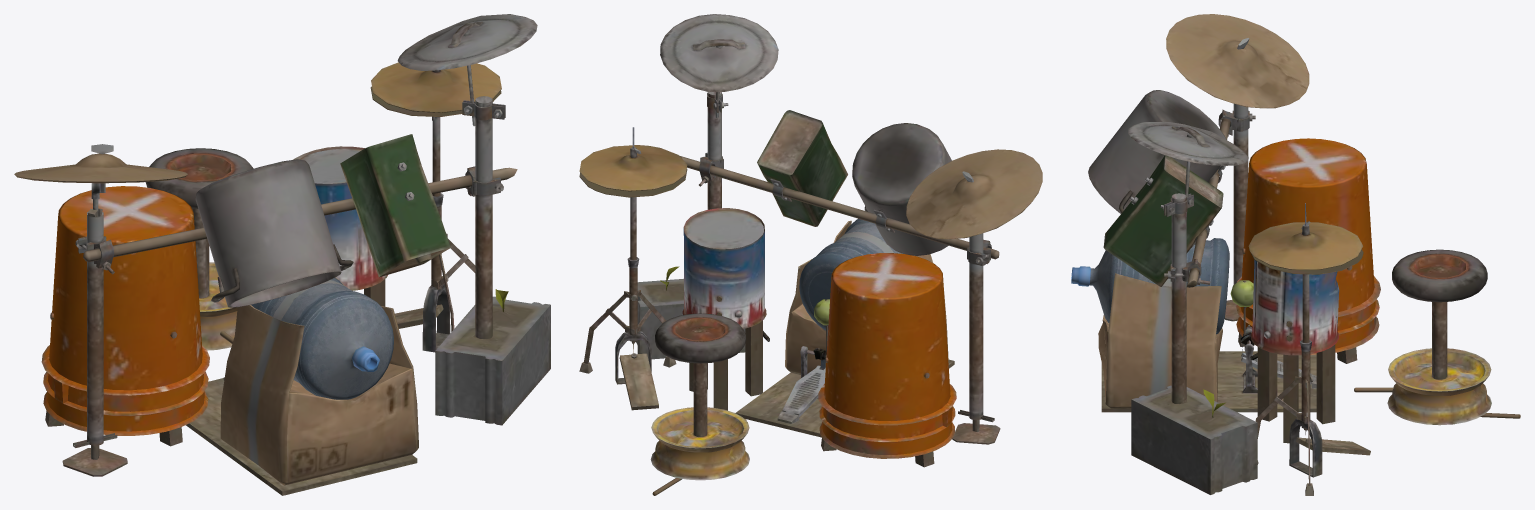
File: drumkit.deployed.static.glb
The picture shows the model from 3 angles, left to right: view 1: azimuth 30°, elevation 25°; view 2: azimuth 150°, elevation 25°; view 3: azimuth 270°, elevation 25°; orthographic projection. The views are drawn at different scales.
Parts seen in each view (by area): view 1: drumkit_LOD0; view 2: drumkit_LOD0; view 3: drumkit_LOD0.
Boxes of the visible parts, x1,y1,x2,y2 form: drumkit_LOD0: (14,14,550,495); drumkit_LOD0: (579,14,1042,480); drumkit_LOD0: (1071,14,1491,495).
Bounding box in the file's own units: 1.66 × 1.21 × 1.46.
Materials: 2 (2 with a texture image).
